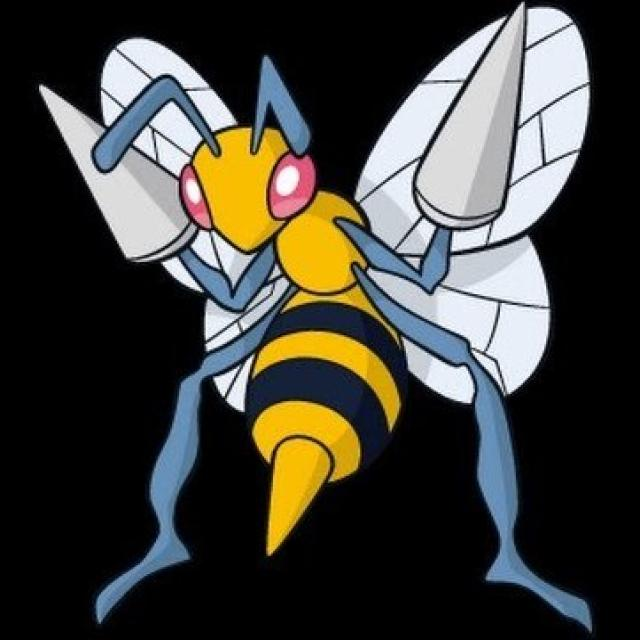Beedrill: (82, 56, 612, 594)
